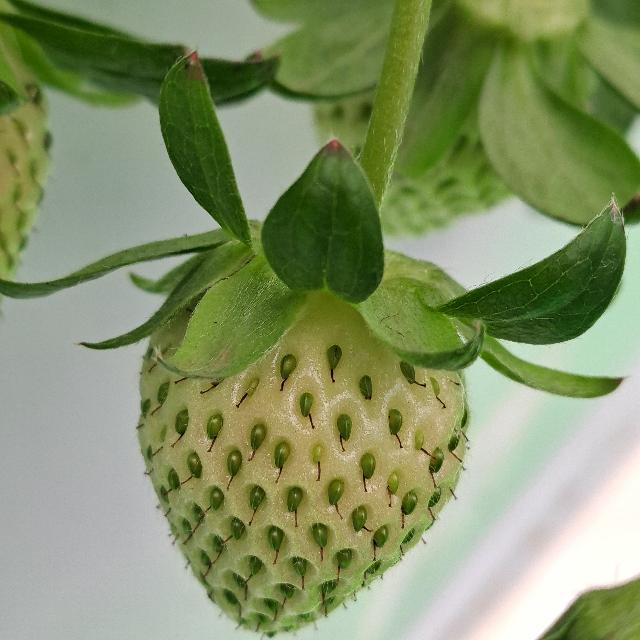Health_25: (137, 304, 470, 634)
